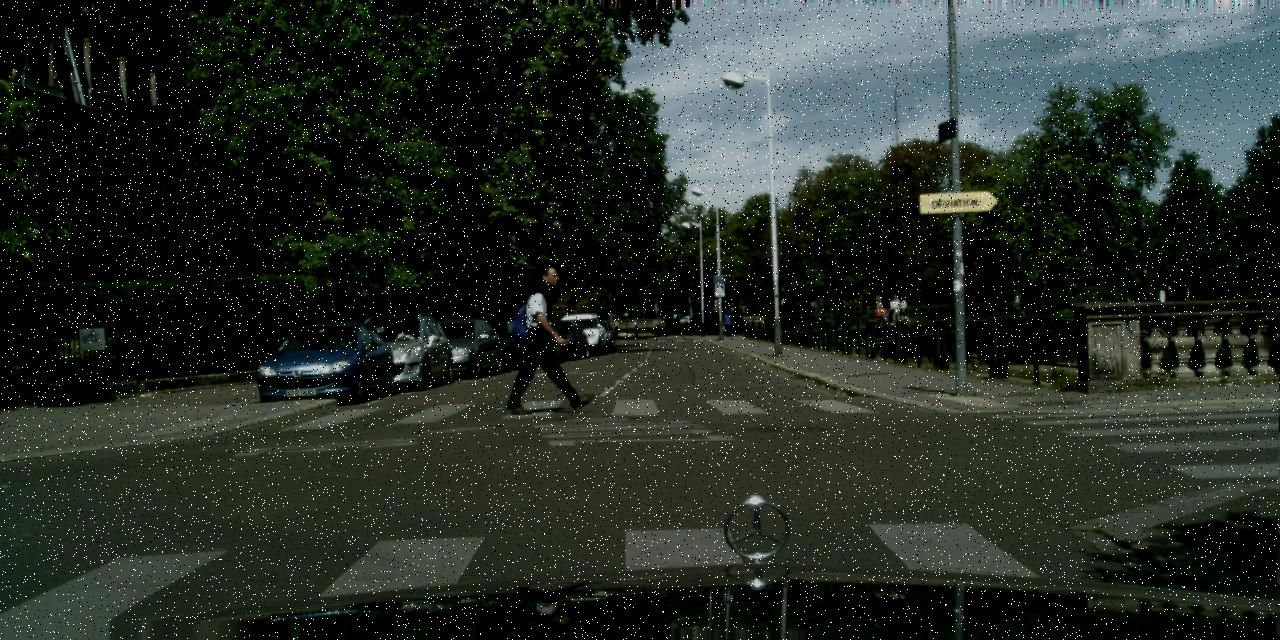ped: (516, 266, 575, 412), (874, 294, 885, 322), (890, 294, 900, 321), (723, 310, 733, 336), (899, 297, 908, 321)
